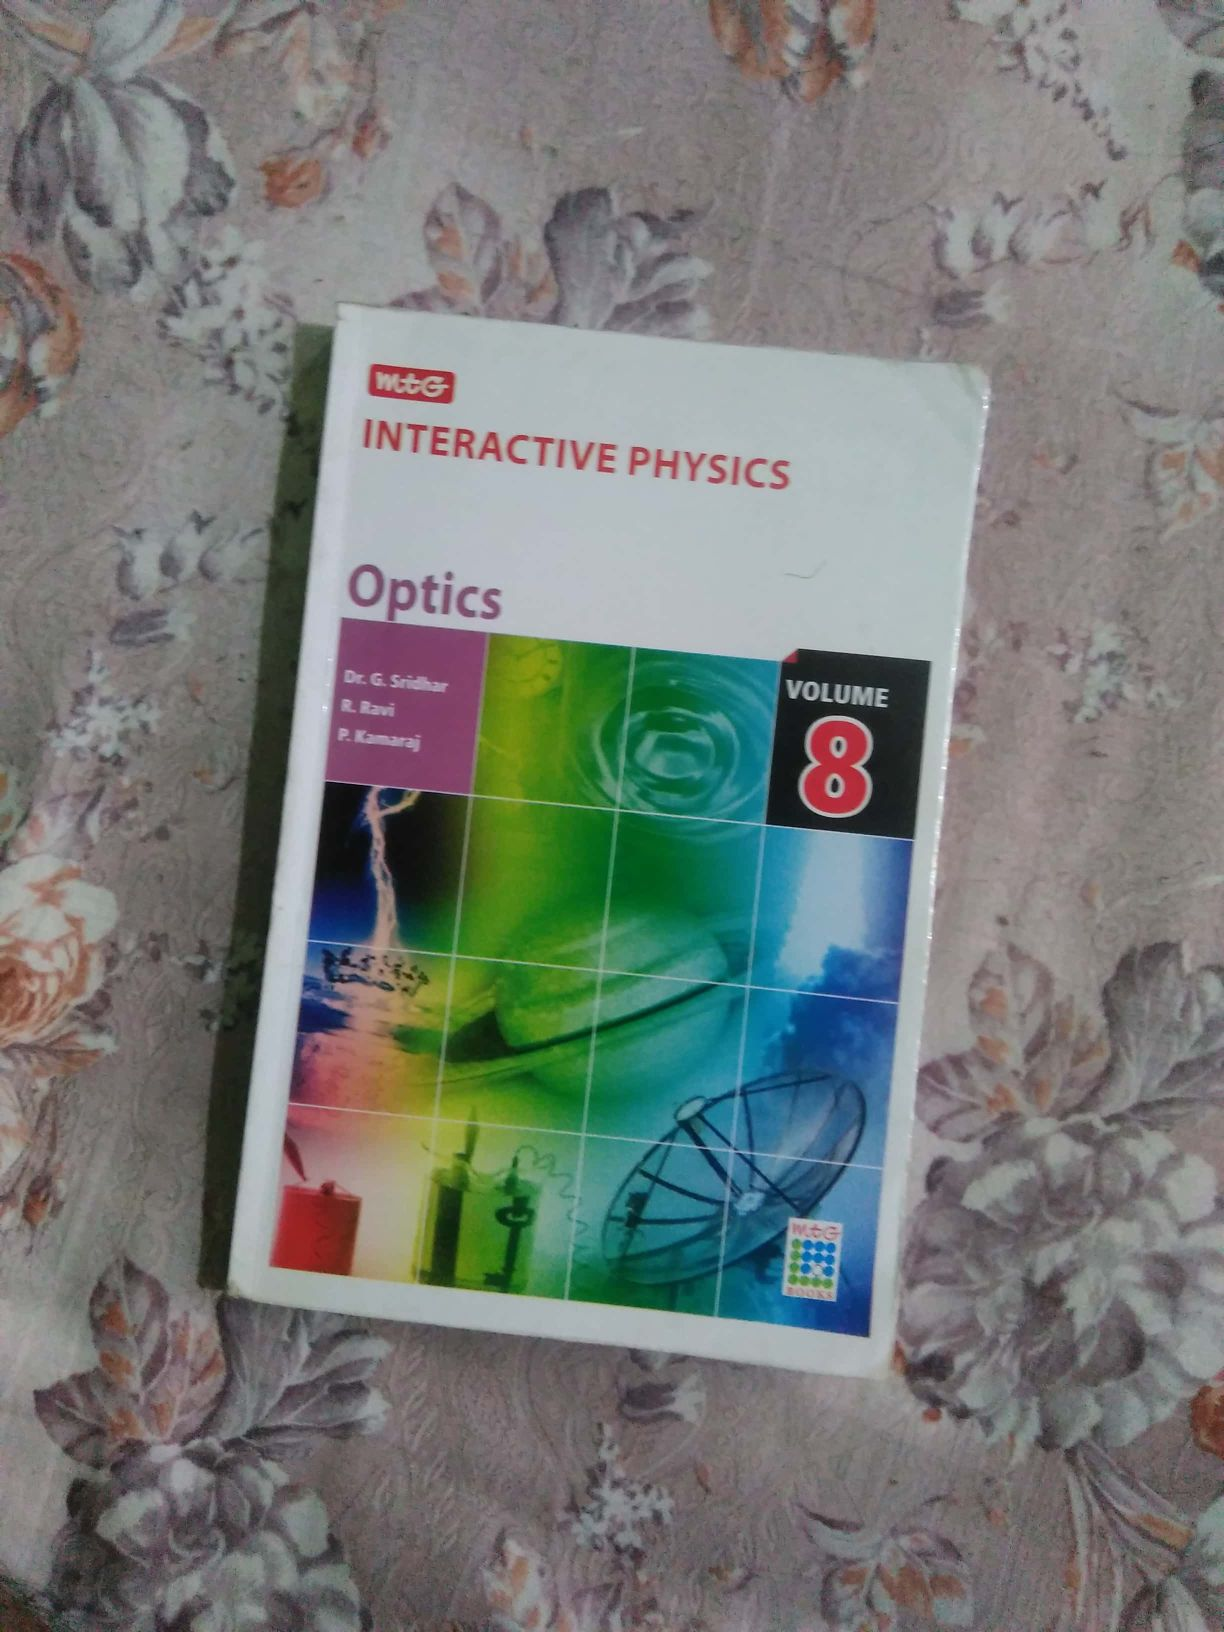optics: (202, 290, 980, 1348)
